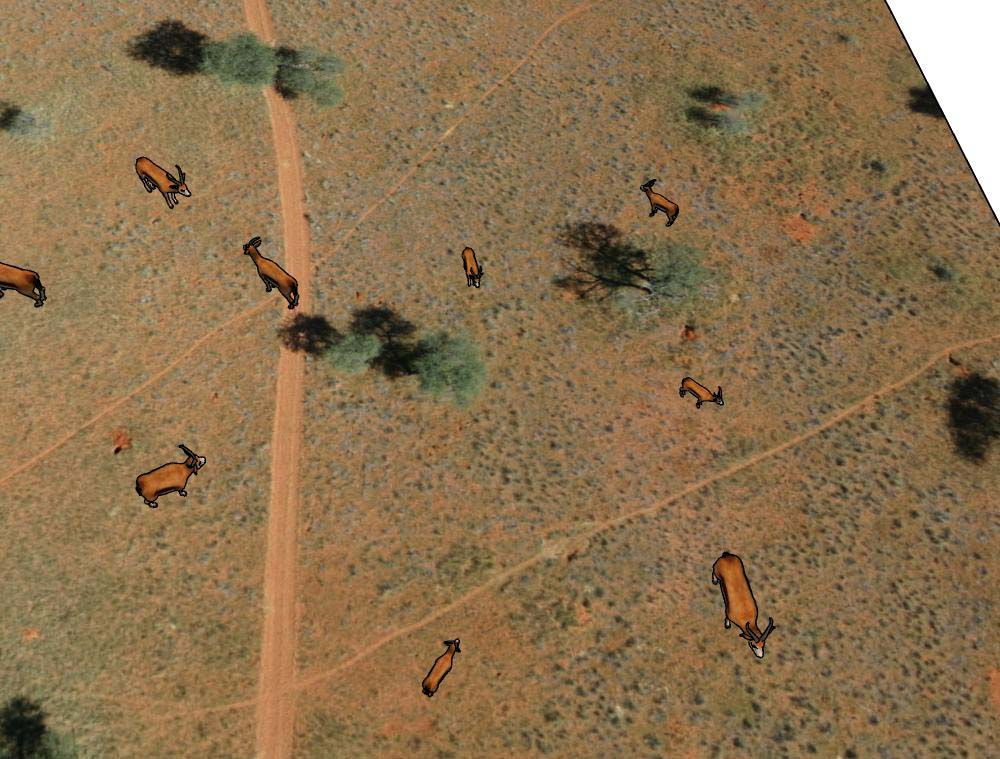springbok: (705, 549, 781, 661), (239, 231, 305, 312), (134, 444, 208, 508), (133, 152, 196, 212), (418, 634, 463, 701), (1, 262, 55, 314), (634, 174, 682, 229), (673, 369, 727, 416), (452, 248, 492, 290)
